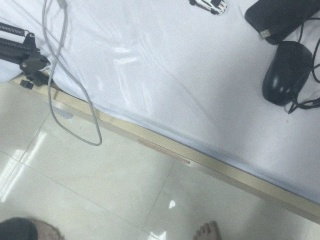mouse: (261, 41, 314, 112), (243, 1, 320, 46)
toy_car: (188, 1, 228, 15)
